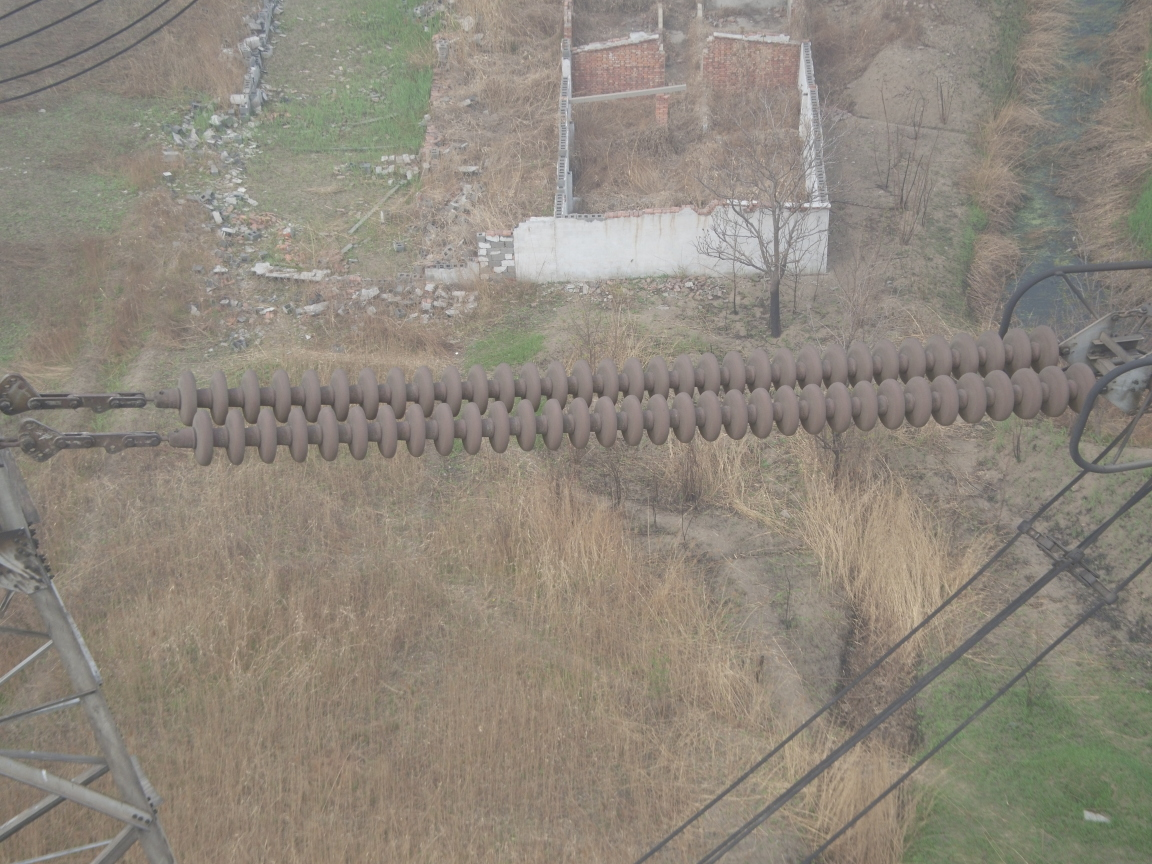insulator: (84, 325, 1133, 468)
